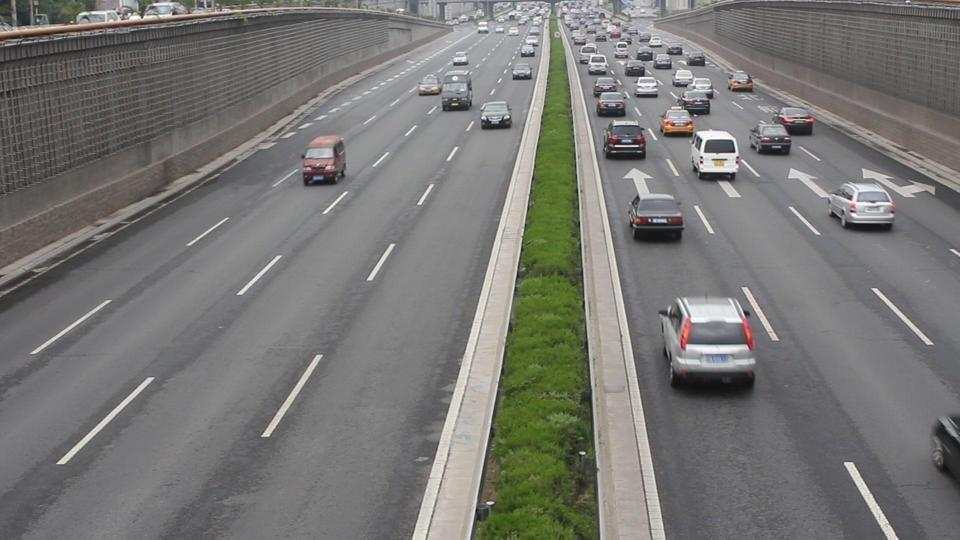car: (657, 295, 756, 390), (825, 181, 896, 230), (627, 193, 686, 241), (689, 129, 740, 181), (302, 134, 348, 185), (929, 411, 960, 484), (603, 121, 648, 160), (748, 123, 792, 155), (440, 72, 473, 111), (775, 105, 815, 135), (682, 79, 715, 113), (659, 107, 695, 136), (479, 100, 513, 129), (596, 92, 628, 117), (633, 76, 660, 97), (592, 77, 618, 97), (416, 76, 442, 96), (511, 62, 533, 80), (654, 54, 671, 70), (453, 52, 469, 67)
